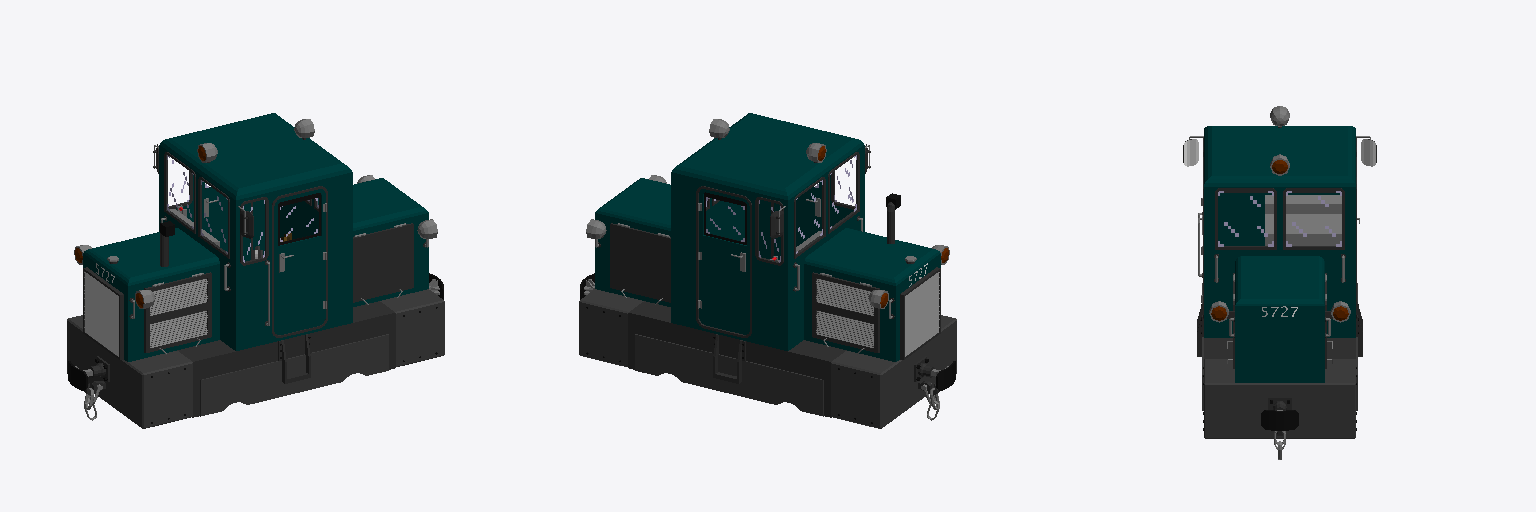
3 renders of one model, left to right at view 1: azimuth 30°, elevation 25°; view 2: azimuth 150°, elevation 25°; view 3: azimuth 270°, elevation 25°, orthographic.
Visible parts, largest first — view 1: FRAME, REMAINING, CAB; view 2: FRAME, REMAINING, CAB; view 3: CAB, FRAME, REMAINING.
Part boxes in pixels (x1,y1,x2,y2): FRAME: (67, 178, 444, 428); REMAINING: (74, 119, 437, 416); CAB: (159, 113, 352, 350); FRAME: (579, 178, 956, 428); REMAINING: (586, 119, 949, 416); CAB: (671, 113, 864, 350); CAB: (1203, 126, 1356, 337); FRAME: (1197, 256, 1362, 459); REMAINING: (1183, 106, 1376, 410).
Size of the model in its own units: 4.69 by 3.06 by 2.15.
Materials: 1 (1 with a texture image).